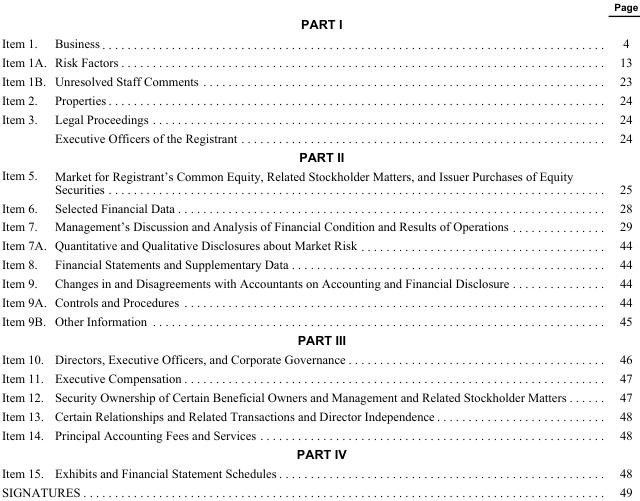table: (0, 0, 637, 498)
table column: (49, 0, 592, 498), (0, 0, 49, 498), (592, 0, 637, 498)
table column header: (0, 0, 637, 14)
table projected row header: (0, 14, 637, 33), (0, 330, 637, 349), (0, 443, 637, 462), (0, 147, 637, 165)
table row: (0, 165, 637, 197), (0, 14, 637, 33), (0, 33, 637, 52), (0, 52, 637, 71), (0, 71, 637, 90), (0, 90, 637, 109), (0, 109, 637, 128), (0, 128, 637, 147), (0, 197, 637, 216), (0, 216, 637, 235), (0, 235, 637, 254), (0, 254, 637, 273), (0, 273, 637, 292), (0, 292, 637, 311), (0, 311, 637, 330), (0, 330, 637, 349), (0, 349, 637, 368), (0, 368, 637, 387), (0, 387, 637, 406), (0, 406, 637, 425), (0, 443, 637, 462), (0, 462, 637, 481), (0, 147, 637, 165), (0, 425, 637, 443), (0, 481, 637, 498), (0, 0, 637, 14)
table spanning cell: (0, 481, 592, 498), (0, 109, 49, 147)
